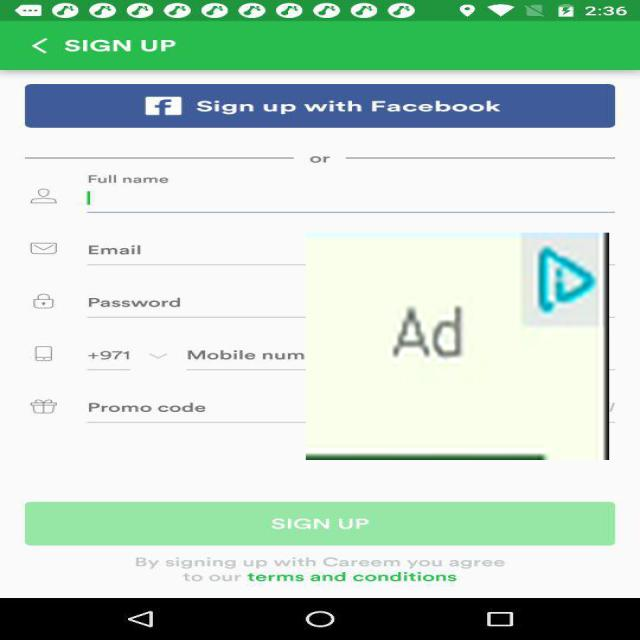sneaking: (306, 233, 609, 460)
